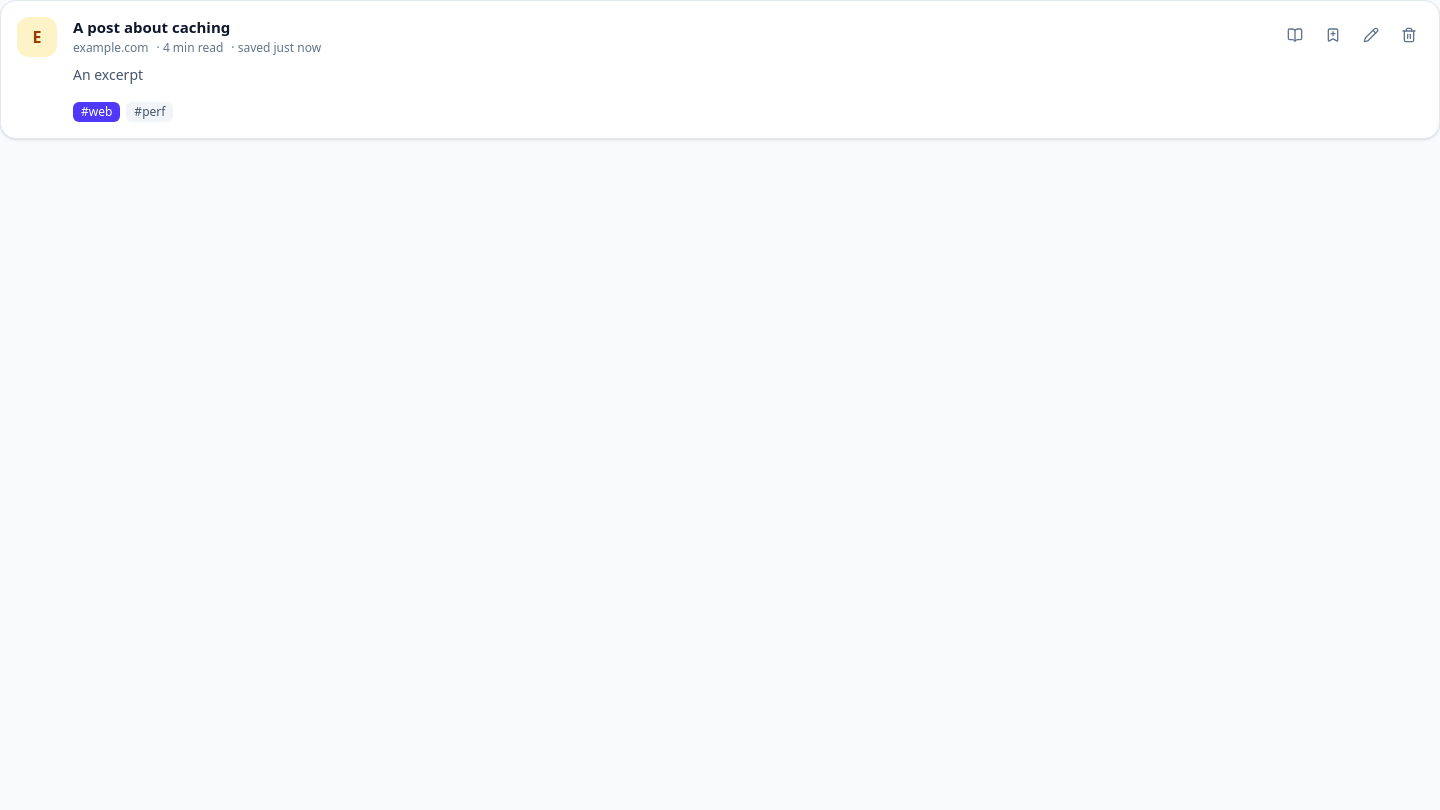
BookmarkCard › toggles read later through the API
Click the button named "read later": click(1333, 35) [1315,17,1351,53]
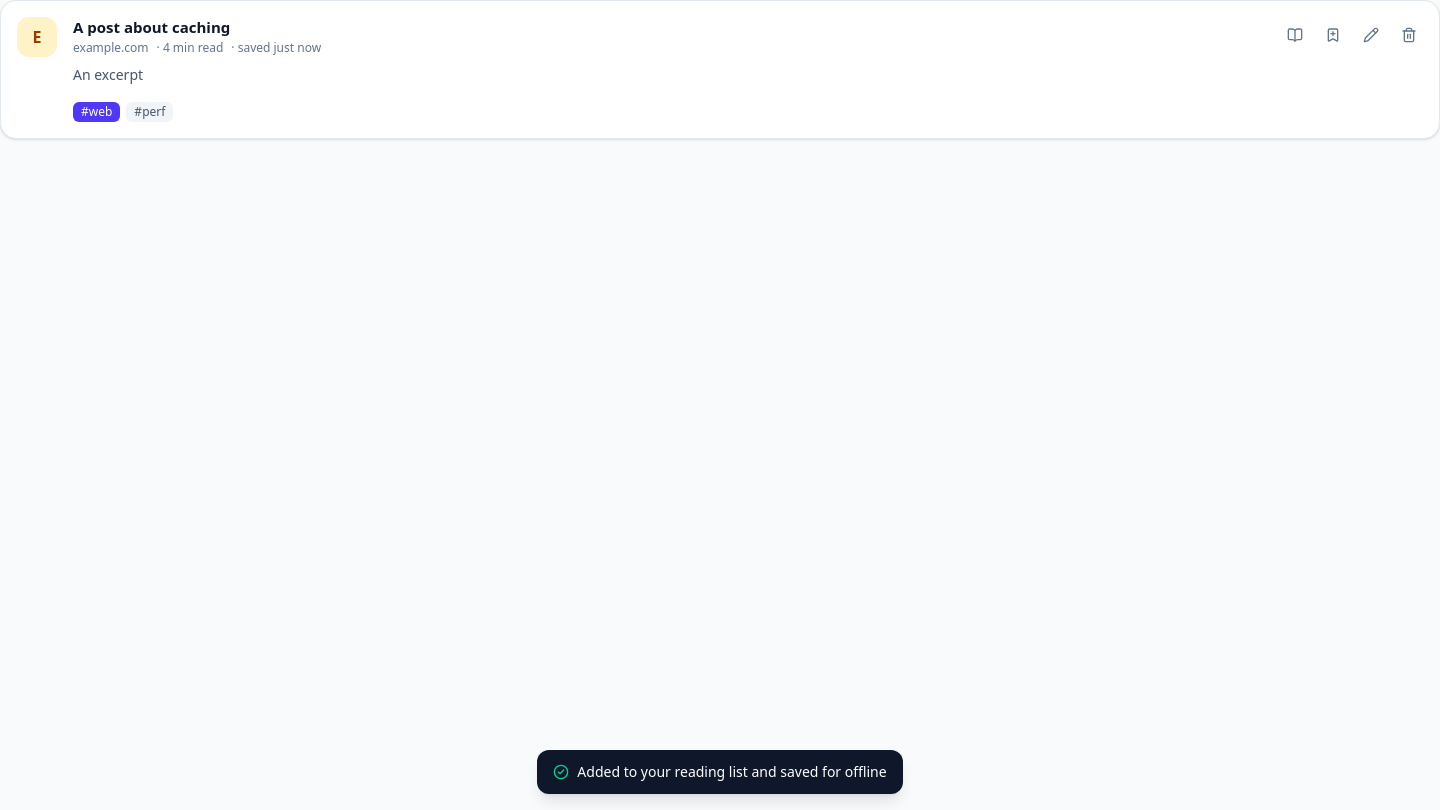
Result: the text "Added to your reading list and saved for offline" is shown at [537,750,903,794]
